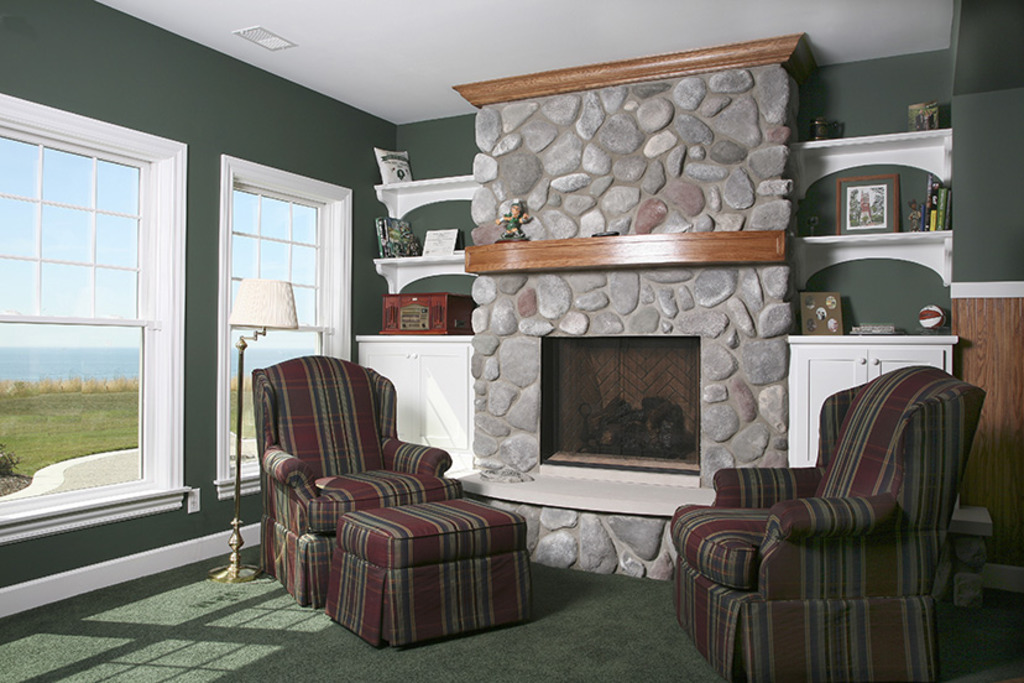small_sofa: (661, 337, 989, 683), (258, 356, 453, 619)
window: (1, 88, 206, 550), (214, 152, 399, 502)
